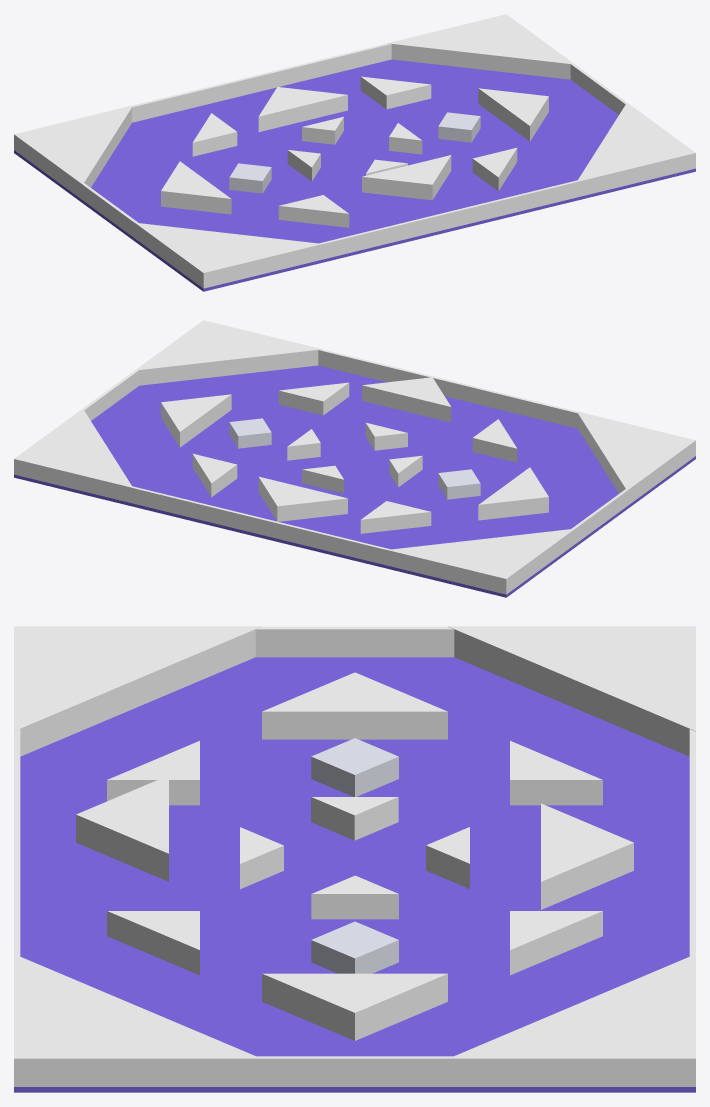
Rendered from Arena_wide.fbx.
The picture shows the model from 3 angles, top to bottom: view 1: azimuth 30°, elevation 25°; view 2: azimuth 150°, elevation 25°; view 3: azimuth 270°, elevation 25°; orthographic projection. The views are drawn at different scales.
Visible parts, largest first — view 1: block (×7), wedge (×11), blockTriangle (×4); view 2: block (×7), wedge (×12), blockTriangle (×4); view 3: block (×7), wedge (×12), blockTriangle (×4).
Part boxes in pixels (bbox=[...]): block (×7): bbox=[14, 43, 695, 291]; wedge (×11): bbox=[14, 14, 695, 288]; blockTriangle (×4): bbox=[161, 87, 548, 214]; block (×7): bbox=[14, 349, 695, 597]; wedge (×12): bbox=[14, 320, 695, 594]; blockTriangle (×4): bbox=[161, 377, 548, 521]; block (×7): bbox=[14, 626, 695, 1092]; wedge (×12): bbox=[14, 626, 695, 1086]; blockTriangle (×4): bbox=[76, 672, 633, 1040].
Bounding box in the file's own units: 1650 × 110 × 1100.
